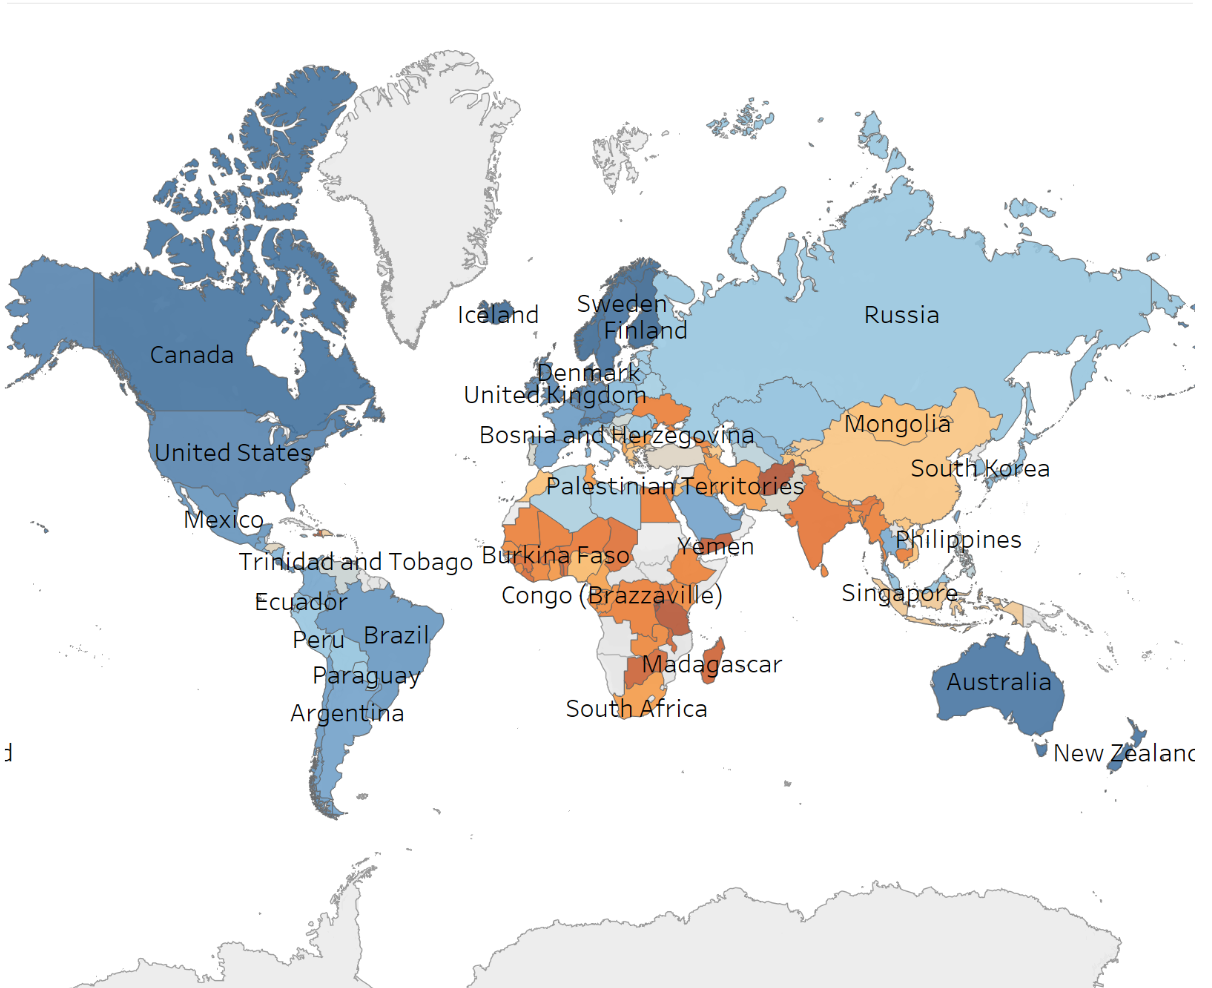

Layout of this report page (visuals, bound fields, positions):
{"tool":"tableau","page":{"name":"Dashboard 2","canvas":[1000,800],"ordinal":1},"visuals":[{"type":"worksheet","title":"Ladder per Country","mark":"Multipolygon","box":[8,8,824,784]},{"type":"legend","title":"Ladder per Country","param":"[federated.12vvsez0wz5a2f1fcnh8r1ib88zg].[avg:Score:qk]","box":[832,8,160,78]}]}

Visuals, with their boxes in screenshot pixels (x1, y1, x2, y2), scaled from the page's 1000x800 canvas onto the 1212x988 screenshot:
"Ladder per Country" worksheet (Multipolygon marks): Rect(10, 10, 1008, 978)
"Ladder per Country" legend: Rect(1008, 10, 1202, 106)
